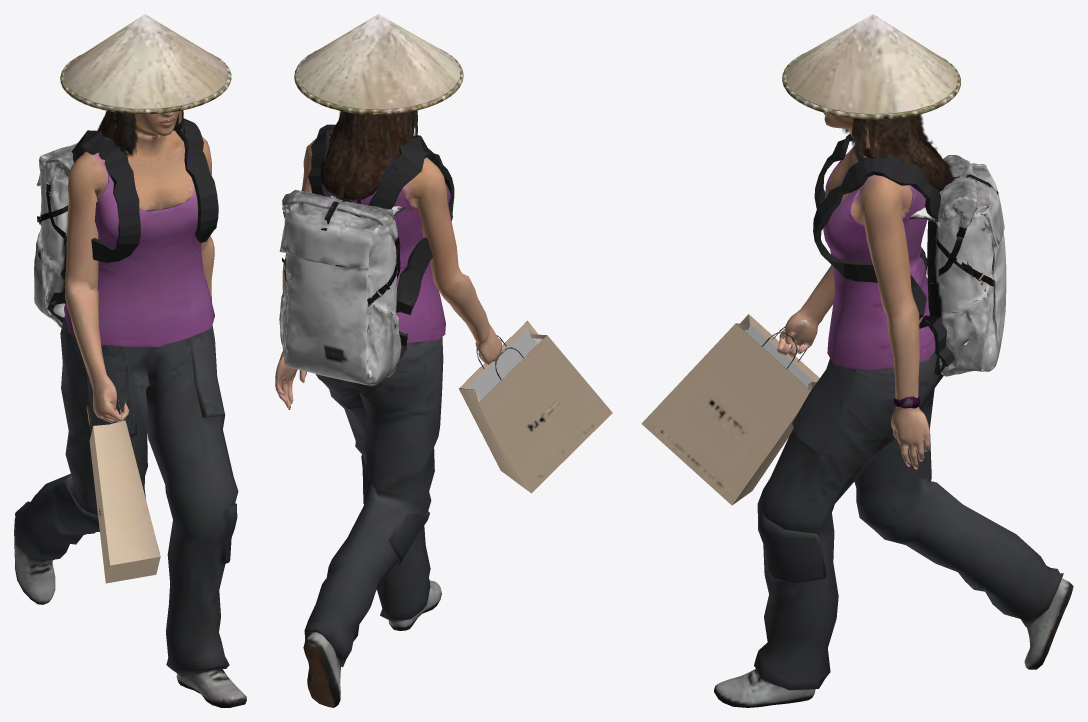
The picture shows the model from 3 angles, left to right: view 1: azimuth 30°, elevation 25°; view 2: azimuth 150°, elevation 25°; view 3: azimuth 270°, elevation 25°; orthographic projection. The views are drawn at different scales.
Parts seen in each view (by area): view 1: conical2026101_w011; view 2: conical2026101_w011; view 3: conical2026101_w011.
Part boxes in pixels (x1=…): conical2026101_w011: x1=14, y1=14, x2=246, y2=707; conical2026101_w011: x1=275, y1=14, x2=612, y2=707; conical2026101_w011: x1=641, y1=14, x2=1073, y2=707.
Bounding box in the file's own units: 0.6219 × 1.78 × 1.03.
Materials: 1 (1 with a texture image).
